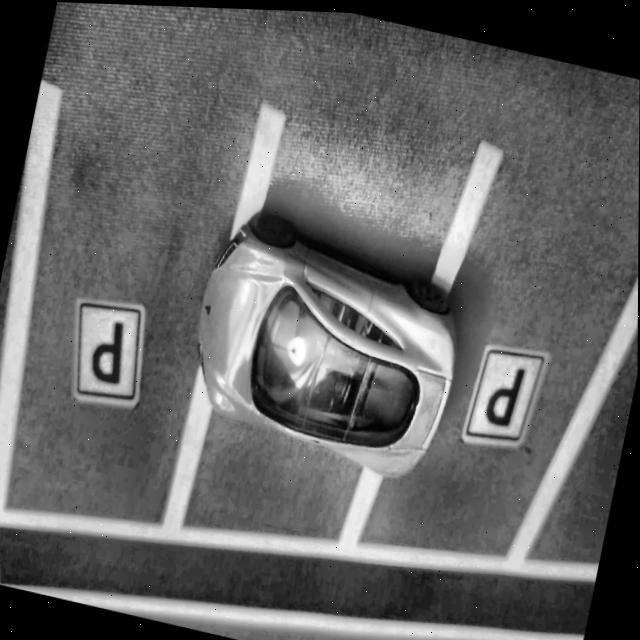car: (176, 203, 477, 486)
